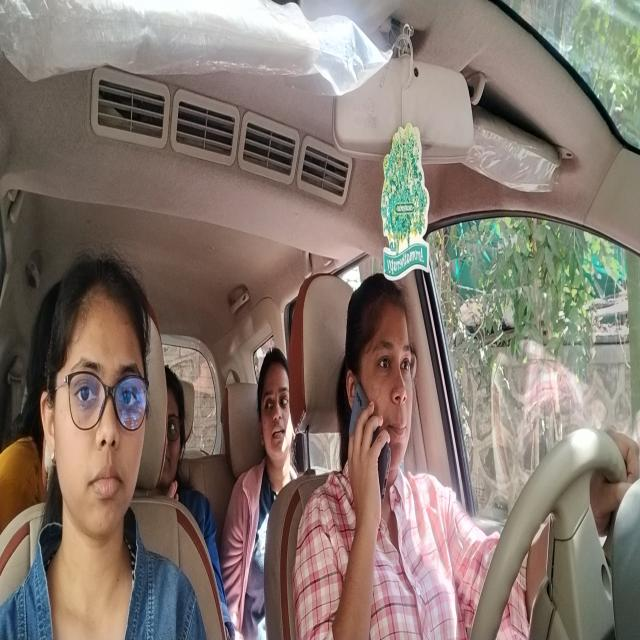mobile: (348, 372, 395, 502)
person: (40, 256, 160, 545), (338, 276, 417, 492), (256, 338, 296, 486), (161, 359, 190, 501)
